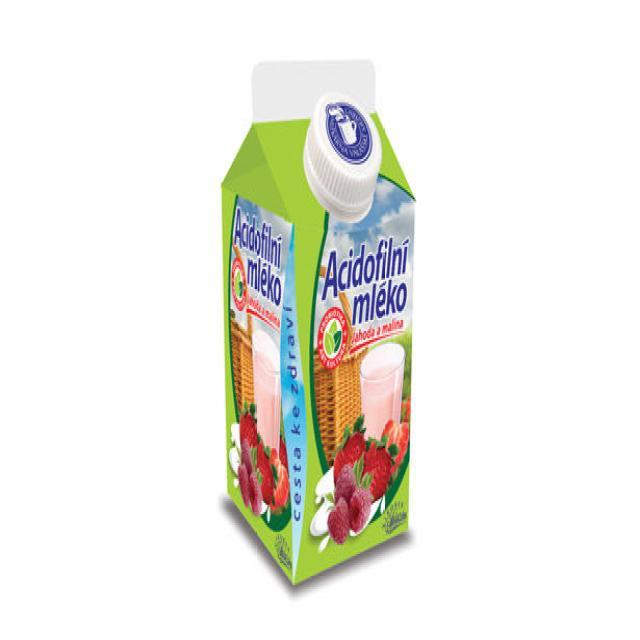Carton: (197, 26, 438, 602)
